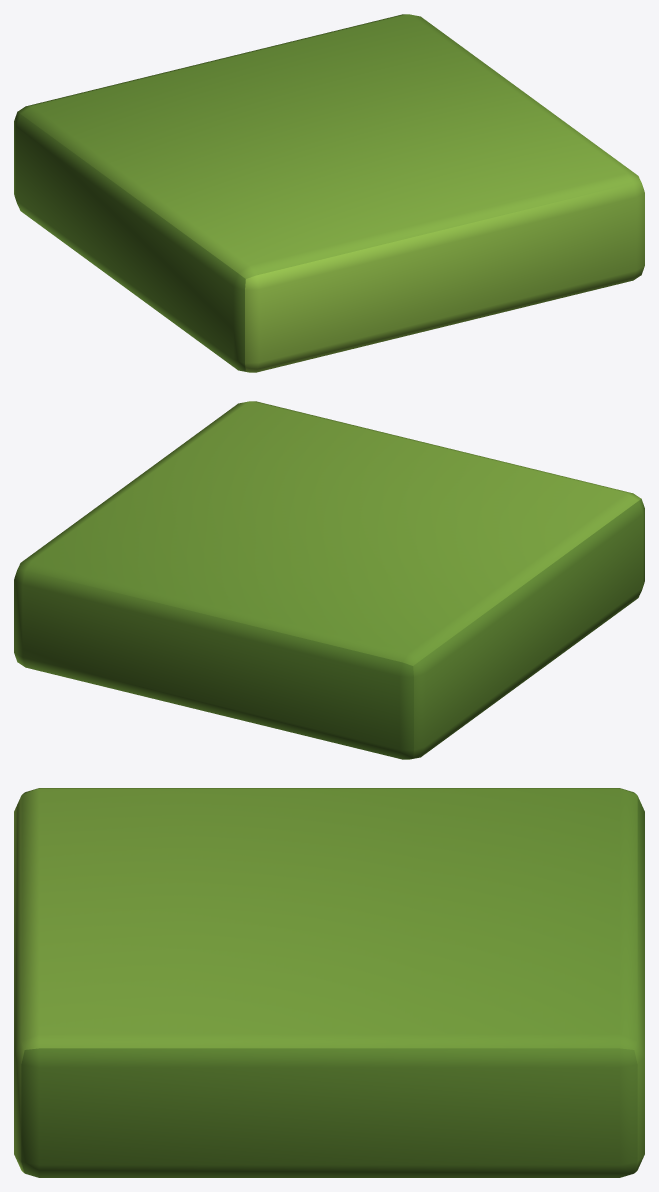
File: TileGreen.fbx
The picture shows the model from 3 angles, top to bottom: view 1: azimuth 30°, elevation 25°; view 2: azimuth 150°, elevation 25°; view 3: azimuth 270°, elevation 25°; orthographic projection. The views are drawn at different scales.
Parts seen in each view (by area): view 1: Cube.001; view 2: Cube.001; view 3: Cube.001.
Boxes of the visible parts, x1,y1,x2,y2 form: Cube.001: (14, 14, 644, 372); Cube.001: (14, 401, 644, 759); Cube.001: (14, 788, 644, 1177).
Size of the model in its own units: 150 by 37.5 by 150.
